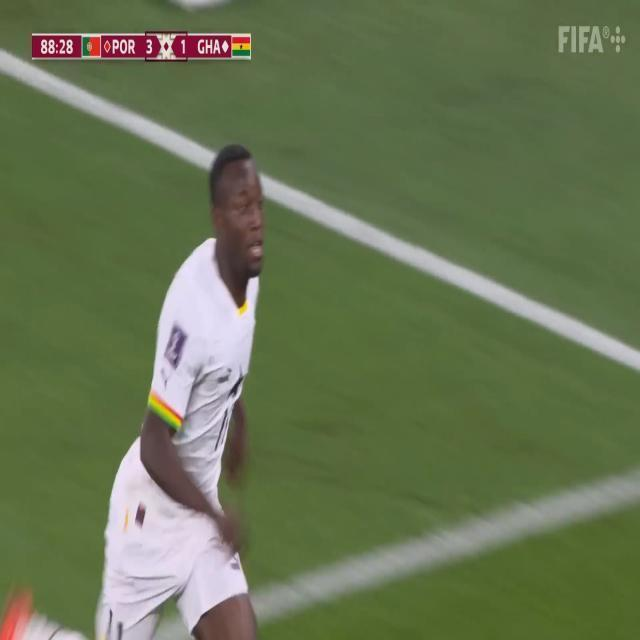player: (92, 132, 278, 640)
